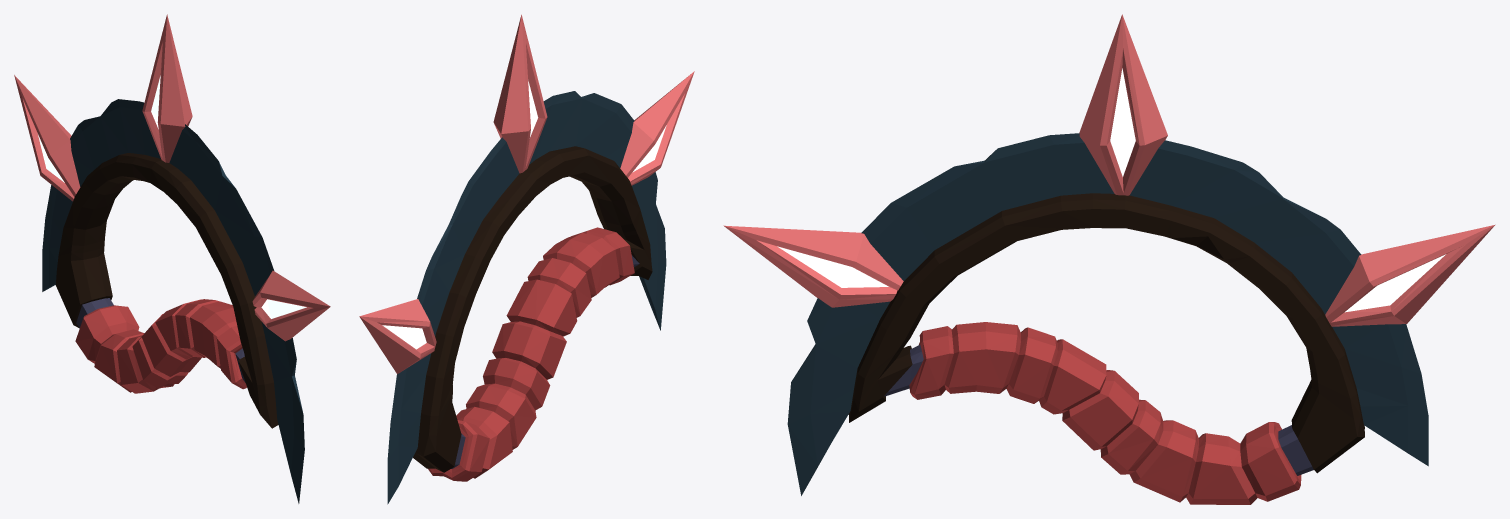
The model's file is SFFA_Weapon_Chakram_Gold_001.fbx.
The picture shows the model from 3 angles, left to right: view 1: azimuth 30°, elevation 25°; view 2: azimuth 150°, elevation 25°; view 3: azimuth 270°, elevation 25°; orthographic projection. The views are drawn at different scales.
Visible parts, largest first — view 1: SFFA_Weapon_Chakram_Gold_001; view 2: SFFA_Weapon_Chakram_Gold_001; view 3: SFFA_Weapon_Chakram_Gold_001.
Part boxes in pixels (box(x1,y1,x2,y2)): SFFA_Weapon_Chakram_Gold_001: box(14, 14, 330, 503); SFFA_Weapon_Chakram_Gold_001: box(359, 14, 694, 504); SFFA_Weapon_Chakram_Gold_001: box(723, 14, 1495, 504).
Size of the model in its own units: 3.46 by 28.64 by 41.35.
